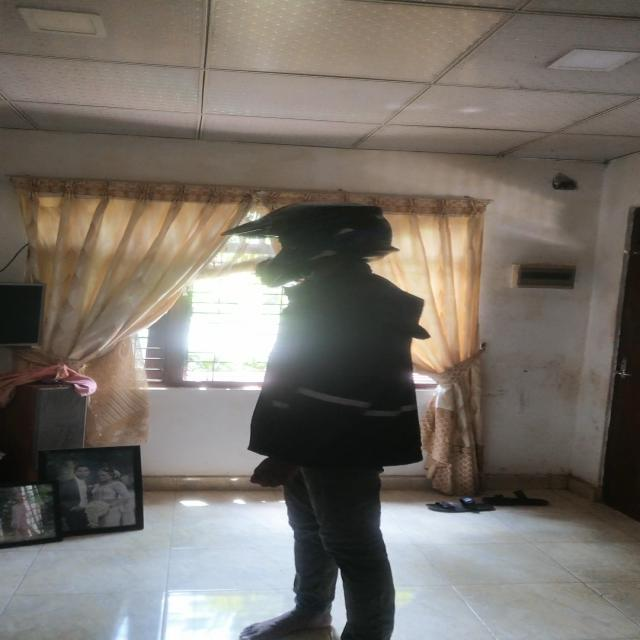Helmet_Wearer: (222, 194, 412, 288)
Jacket_Wearer: (205, 268, 434, 495)
Person: (216, 192, 449, 640)
